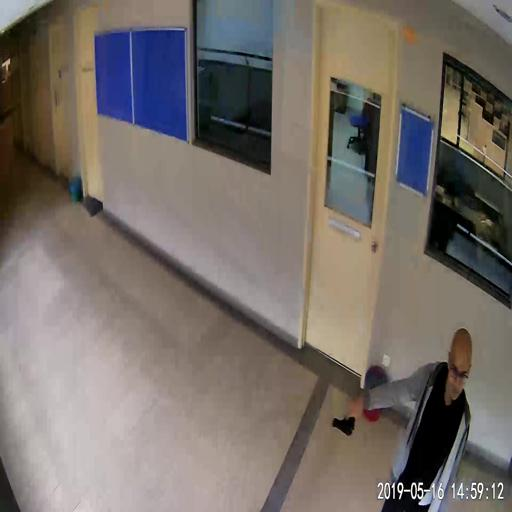pistol: (332, 409, 358, 437)
